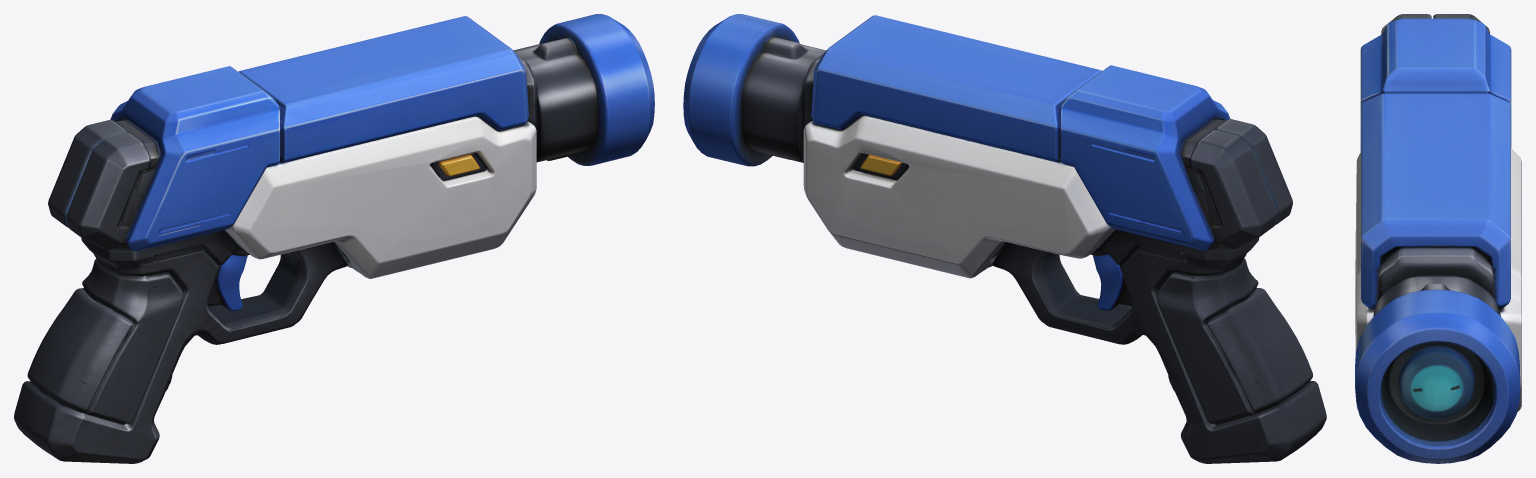
The model's file is futuristic+pistol+3d+model.fbx.
The picture shows the model from 3 angles, left to right: view 1: azimuth 30°, elevation 25°; view 2: azimuth 150°, elevation 25°; view 3: azimuth 270°, elevation 25°; orthographic projection. The views are drawn at different scales.
Parts seen in each view (by area): view 1: tripo_29b74d15_9621_4fcf_bf12_4ebc818b5aa5; view 2: tripo_29b74d15_9621_4fcf_bf12_4ebc818b5aa5; view 3: tripo_29b74d15_9621_4fcf_bf12_4ebc818b5aa5.
Boxes of the visible parts, left/top/right/bottom form: tripo_29b74d15_9621_4fcf_bf12_4ebc818b5aa5: left=14, top=14, right=654, bottom=463; tripo_29b74d15_9621_4fcf_bf12_4ebc818b5aa5: left=683, top=14, right=1326, bottom=463; tripo_29b74d15_9621_4fcf_bf12_4ebc818b5aa5: left=1355, top=14, right=1521, bottom=463.
Bounding box in the file's own units: 0.9995 × 0.5483 × 0.2085.
